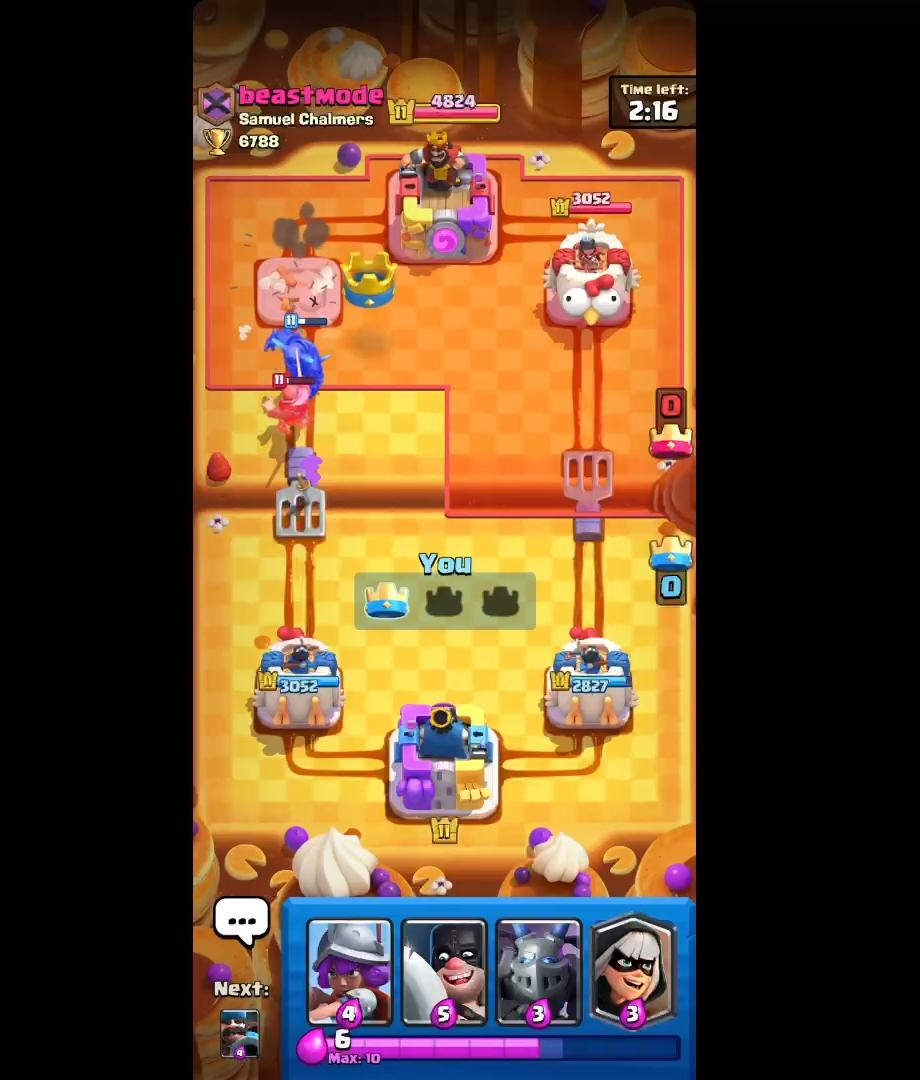Knight: (259, 368, 321, 437)
